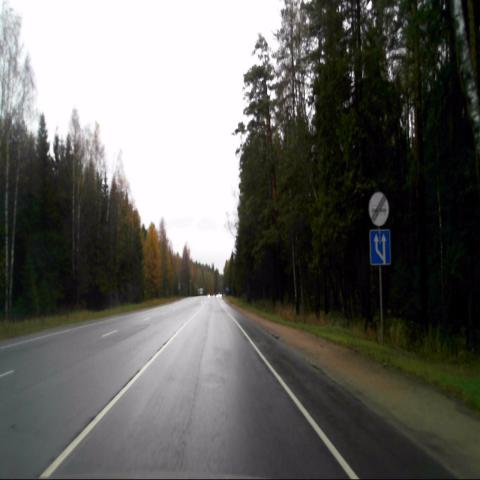3_21: (368, 190, 389, 227)
5_15_3: (368, 228, 391, 266)
